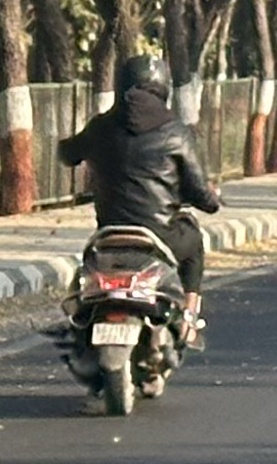BikeWithRider: (29, 47, 229, 422)
Helmet: (105, 49, 180, 114)
